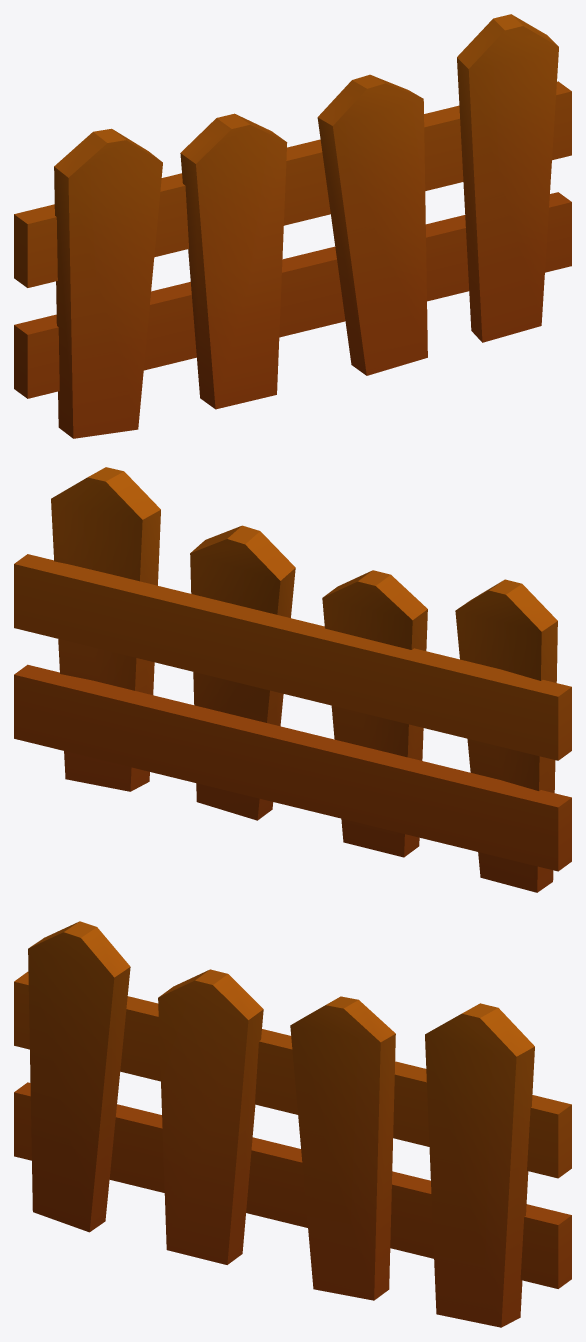
The model's file is Farm_Fence_B_01.fbx.
The picture shows the model from 3 angles, top to bottom: view 1: azimuth 30°, elevation 25°; view 2: azimuth 150°, elevation 25°; view 3: azimuth 330°, elevation 25°; orthographic projection.
Visible parts, largest first — view 1: Farm_Fence_B_01; view 2: Farm_Fence_B_01; view 3: Farm_Fence_B_01.
Boxes of the visible parts, <box> form: Farm_Fence_B_01: <box>14,14,571,438</box>; Farm_Fence_B_01: <box>14,467,571,892</box>; Farm_Fence_B_01: <box>14,921,571,1327</box>.
Bounding box in the file's own units: 200 × 108 × 21.48.
